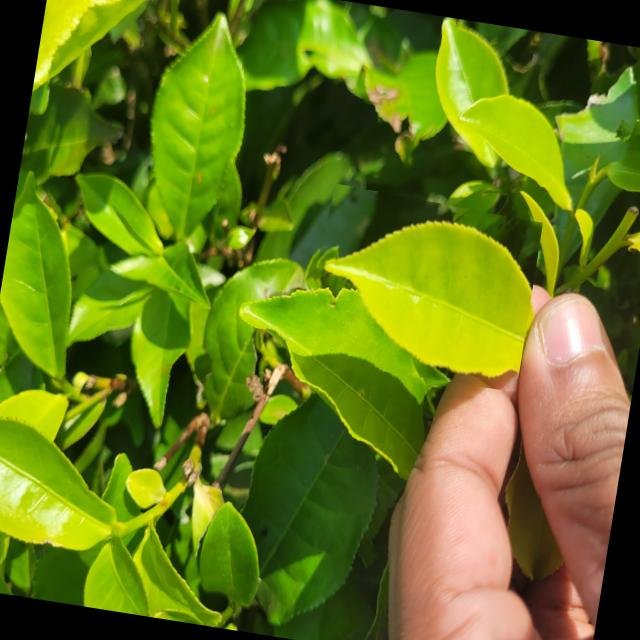Catagory A(1-2 days): (295, 180, 544, 392)
